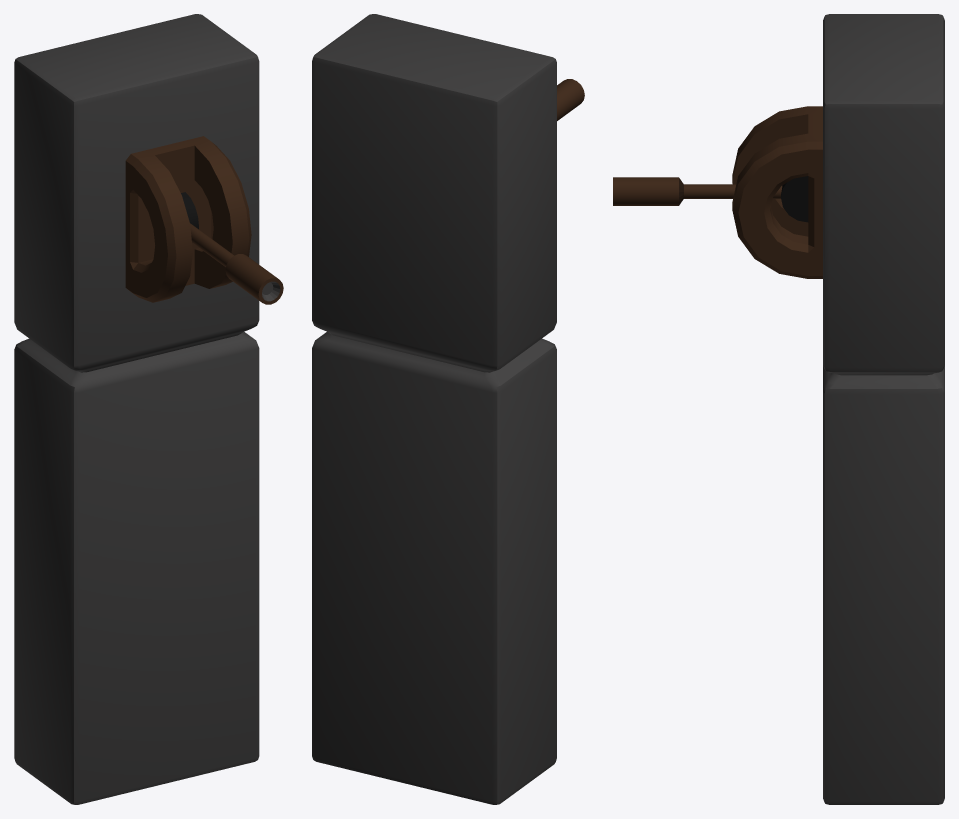
The model's file is Rub.FBX.
3 renders of one model, left to right at view 1: azimuth 30°, elevation 25°; view 2: azimuth 150°, elevation 25°; view 3: azimuth 270°, elevation 25°, orthographic.
Visible parts, largest first — view 1: Cylinder003, Cylinder005; view 2: Cylinder003, Cylinder005; view 3: Cylinder003, Cylinder005.
Boxes of the visible parts, <box> form: Cylinder003: <box>14,14,259,804</box>; Cylinder005: <box>190,223,283,304</box>; Cylinder003: <box>312,14,556,804</box>; Cylinder005: <box>557,79,584,120</box>; Cylinder003: <box>732,14,944,804</box>; Cylinder005: <box>613,177,782,205</box>.
Size of the model in its own units: 65.94 by 237 by 101.
